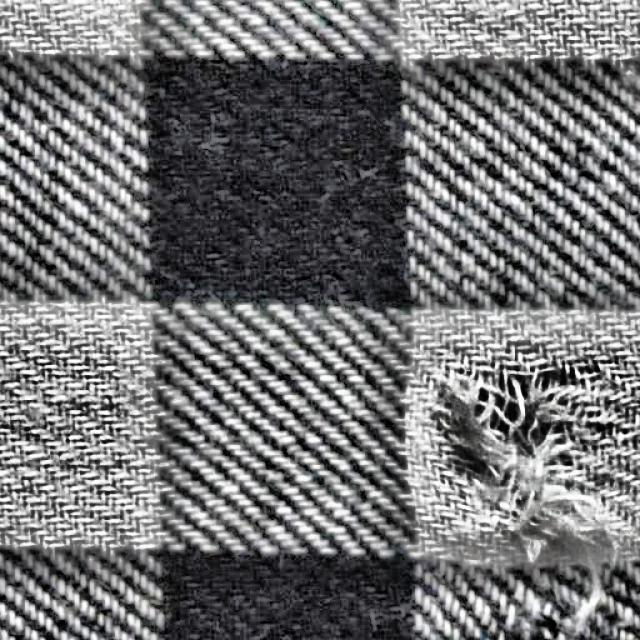cut: (433, 353, 639, 639)
